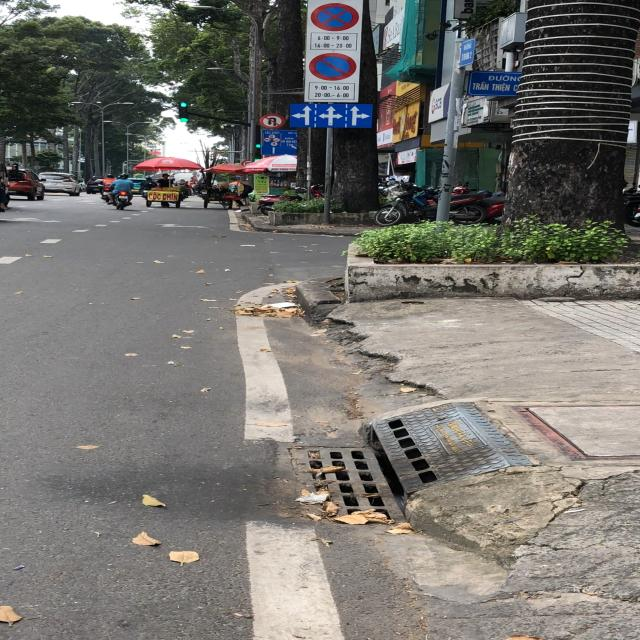Bien bao cam do xe: (310, 1, 366, 34)
Bien bao cam dung xe va do xe: (308, 52, 357, 83)
Bien bao cam quay dau xe: (261, 112, 289, 129)
